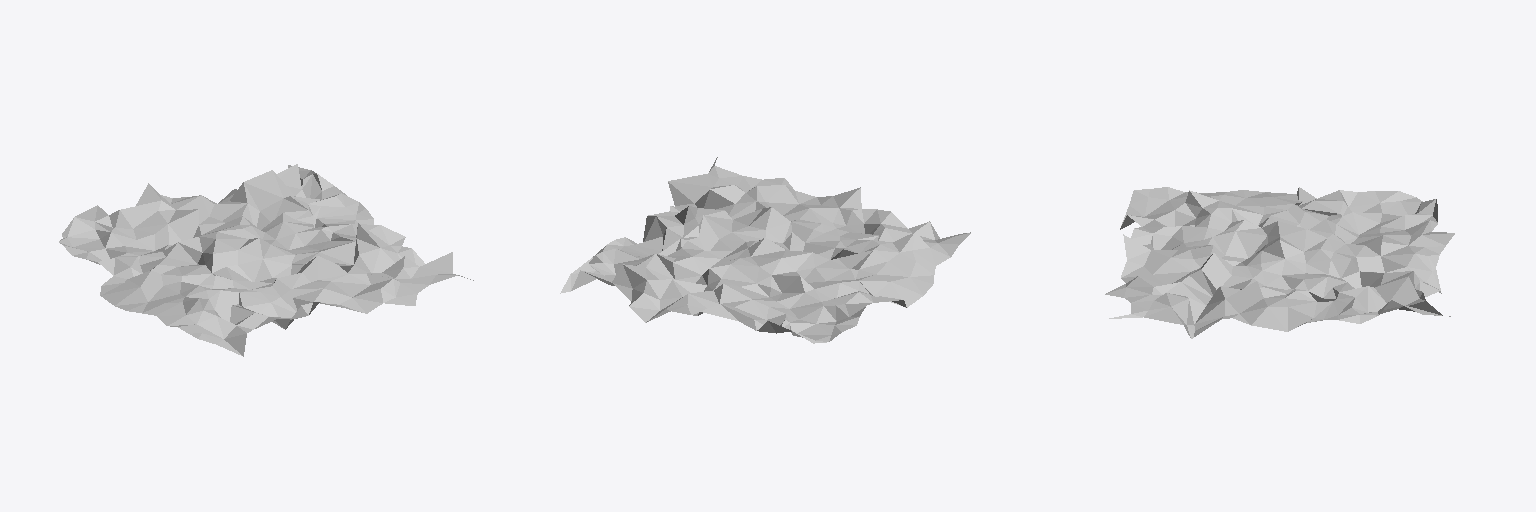
The model's file is floor.obj.
3 views of the same model, side by side, from view 1: azimuth 30°, elevation 25°; view 2: azimuth 150°, elevation 25°; view 3: azimuth 270°, elevation 25° (orthographic).
Bounding box in the file's own units: 11.19 × 1.41 × 11.48.